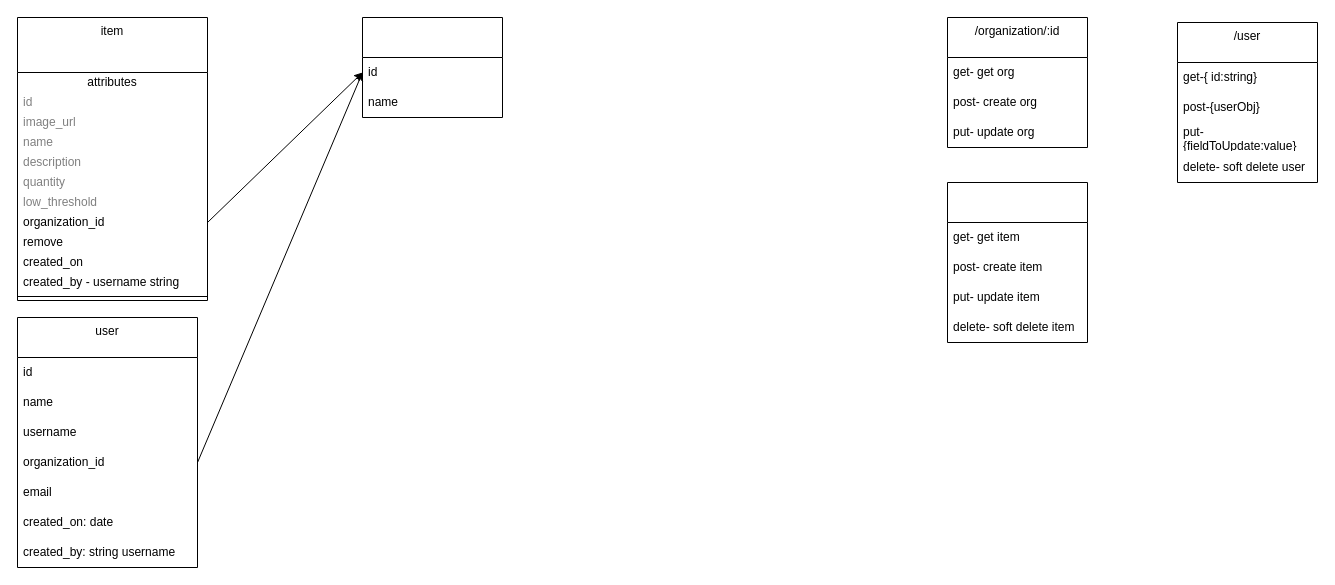
Some shapes in this 1335 by 585 pixel diagram are drawn without their labels. The box of each missing label's shape, as (x1, y1, x2, y2) in pixels:
/item/:id: (946, 182, 1088, 342)
organization: (362, 16, 502, 118)
